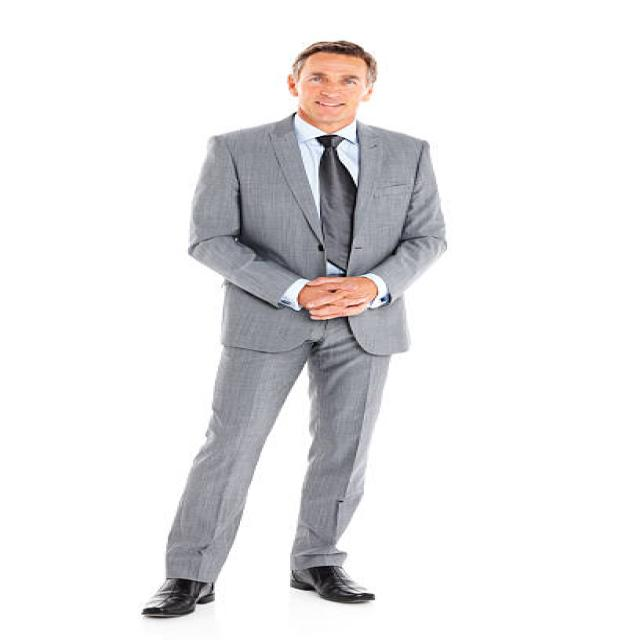Edited images: (137, 36, 470, 623)
